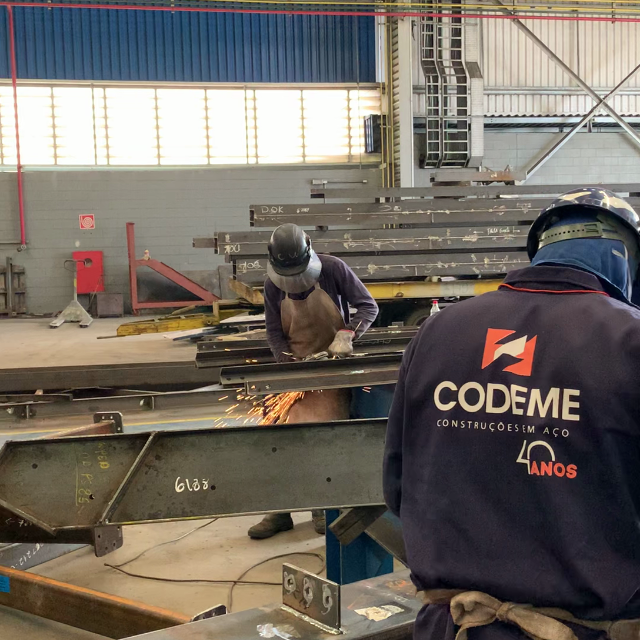face-shield: (266, 244, 321, 295)
glove: (328, 329, 354, 356)
helmet: (527, 186, 640, 283), (270, 222, 313, 274)
person: (381, 187, 640, 628), (264, 222, 379, 360)
